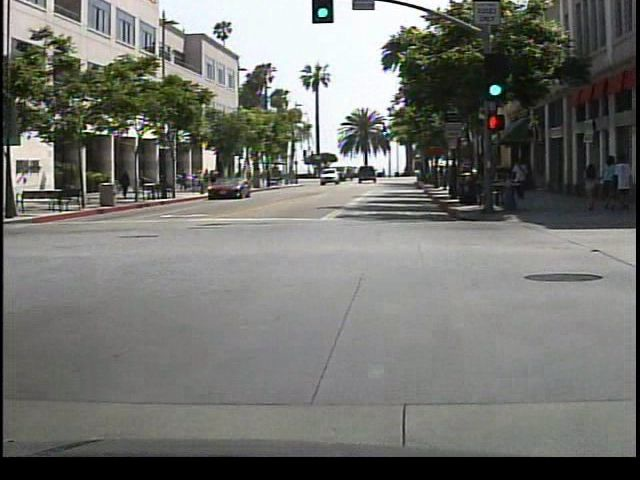person: (511, 155, 532, 205), (119, 168, 135, 201)
